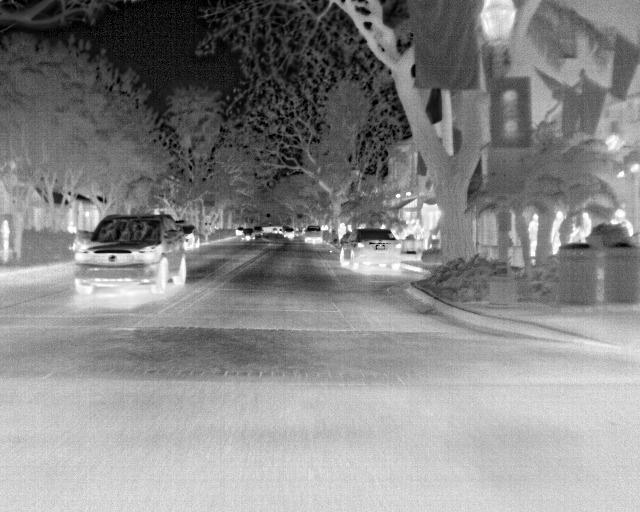bicycle: (72, 213, 187, 297), (339, 227, 402, 272), (181, 225, 202, 248), (304, 225, 323, 244), (240, 228, 255, 243), (282, 227, 296, 241), (251, 227, 265, 239)
empty: (525, 210, 541, 263), (610, 210, 636, 237), (565, 223, 586, 244), (0, 220, 13, 252), (578, 211, 592, 235)
